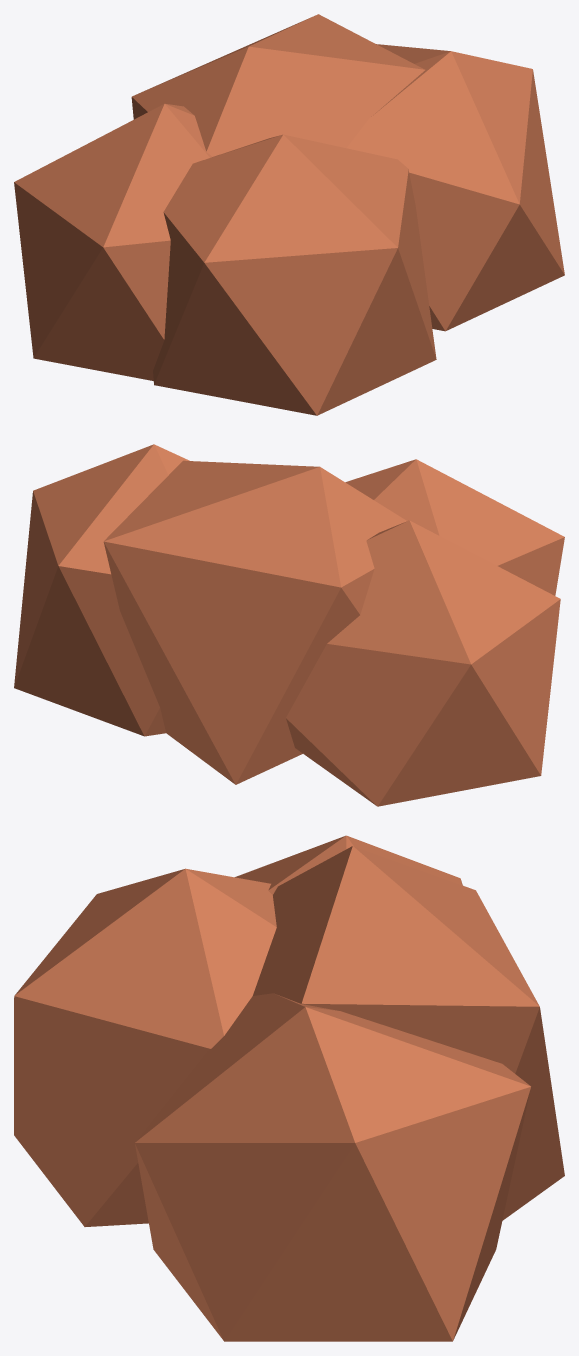
File: bushlowpoly_1.fbx
The picture shows the model from 3 angles, top to bottom: view 1: azimuth 30°, elevation 25°; view 2: azimuth 150°, elevation 25°; view 3: azimuth 270°, elevation 25°; orthographic projection. The views are drawn at different scales.
Visible parts, largest first — view 1: bush 1; view 2: bush 1; view 3: bush 1.
Part boxes in pixels (box(x1,y1,x2,y2)): bush 1: box(14, 14, 564, 415); bush 1: box(14, 444, 564, 806); bush 1: box(14, 835, 564, 1341).
Bounding box in the file's own units: 342 × 167 × 253.
